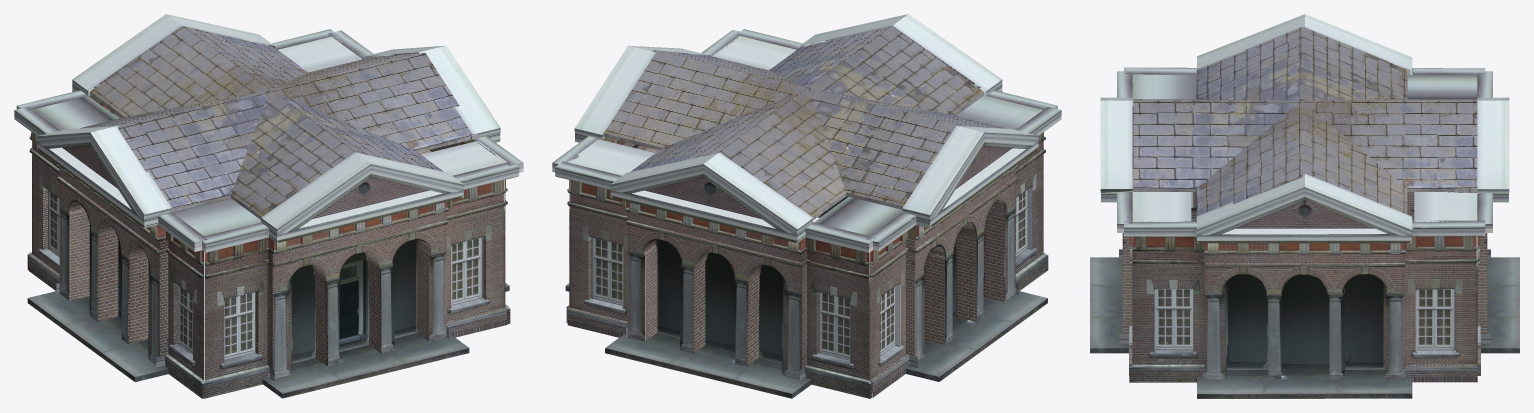
3 views of the same model, side by side, from view 1: azimuth 30°, elevation 25°; view 2: azimuth 150°, elevation 25°; view 3: azimuth 270°, elevation 25° (orthographic).
Visible parts, largest first — view 1: Object_3, Object_2; view 2: Object_3, Object_2; view 3: Object_3, Object_2.
Boxes of the visible parts, box(x1,y1,x2,y2) form: Object_3: box(14, 26, 519, 398); Object_2: box(15, 14, 523, 398); Object_3: box(555, 26, 1061, 398); Object_2: box(552, 14, 1060, 398); Object_3: box(1124, 26, 1485, 398); Object_2: box(1090, 14, 1519, 393).
Size of the model in its own units: 1840 by 976 by 1832.
1 material, 1 textured.
